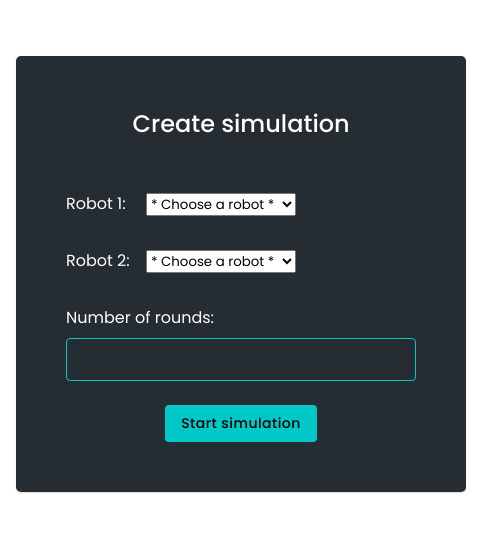
Test: Sim Creation test › 4. New sim without number of rounds
Select "Soyunrobot" in the dropdown with test id "nameRobot1" at (221, 204), box [146,193,296,216]
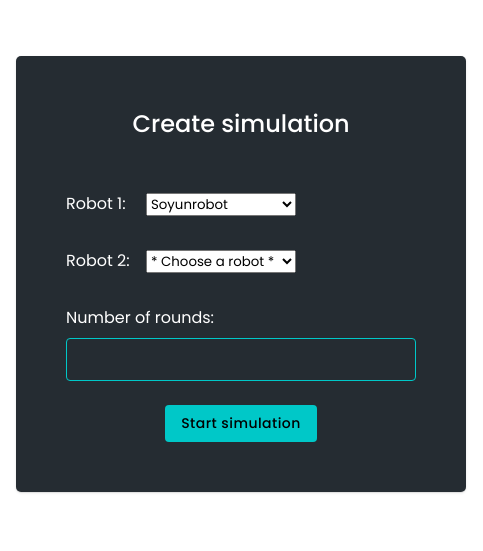
Select "Soyunrobot" in the dropdown with test id "nameRobot2" at (221, 262), box [146,250,296,273]
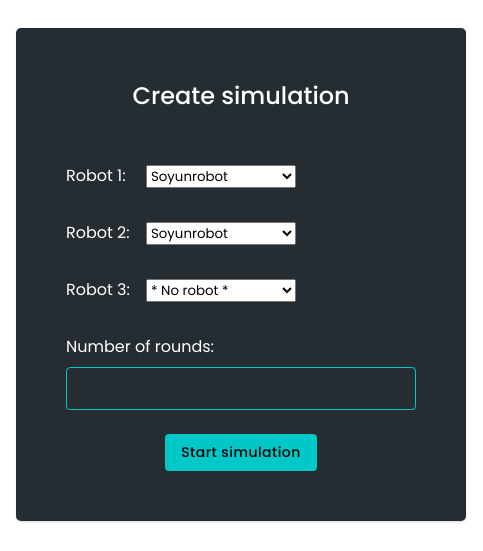
Click the button with test id "submit".
click(241, 452)  # box [165,434,317,470]
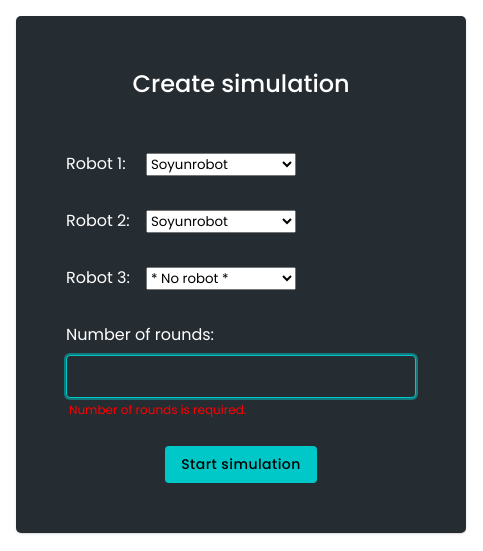
Now the text with test id "requiredNRounds" reads "Number of rounds is required.", box [69,400,246,418]
